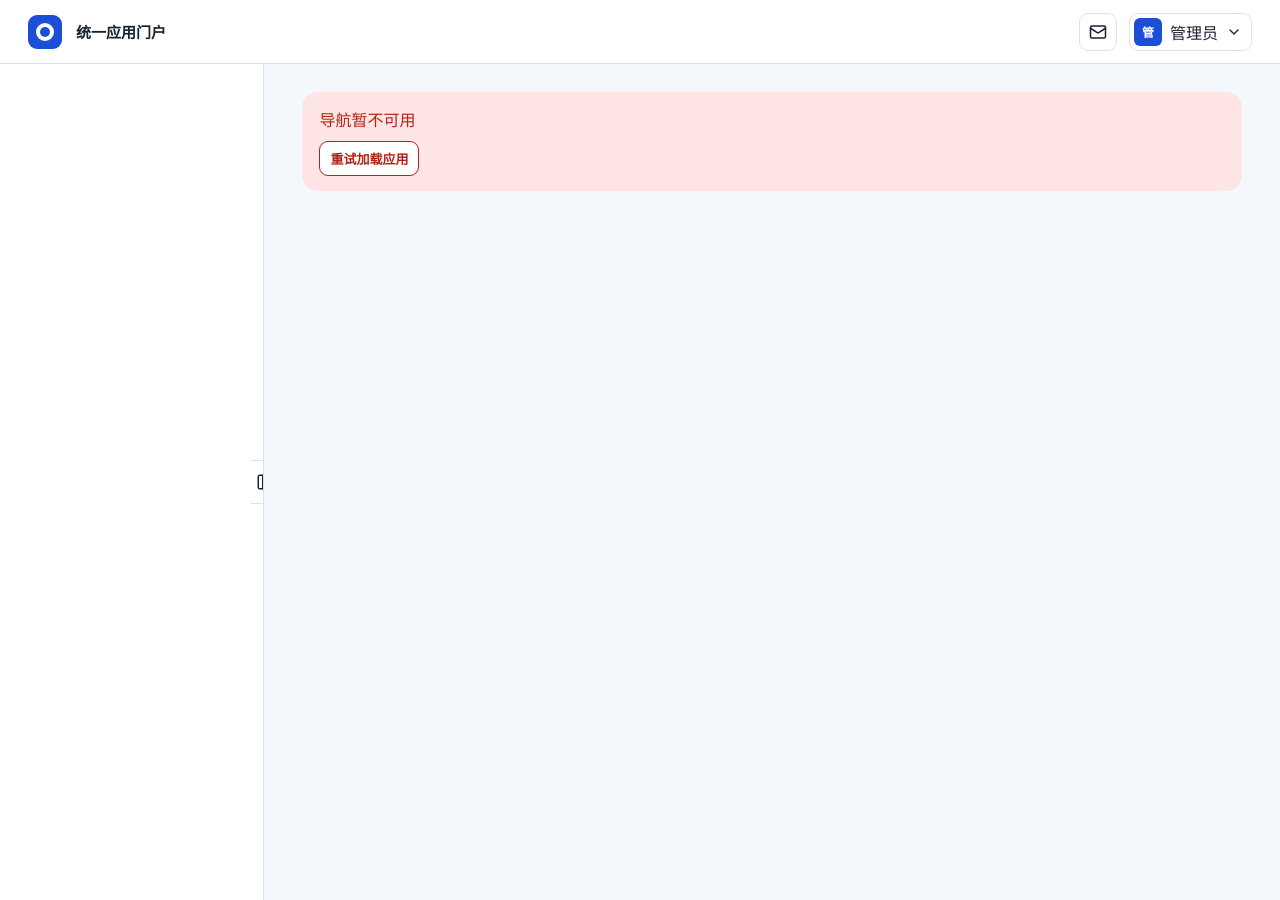
Test: Portal App › 导航加载失败时应保留已认证用户壳并允许只重试导航
Click the button "重试加载应用" at (369, 158), box x1=319 y1=141 x2=419 y2=176
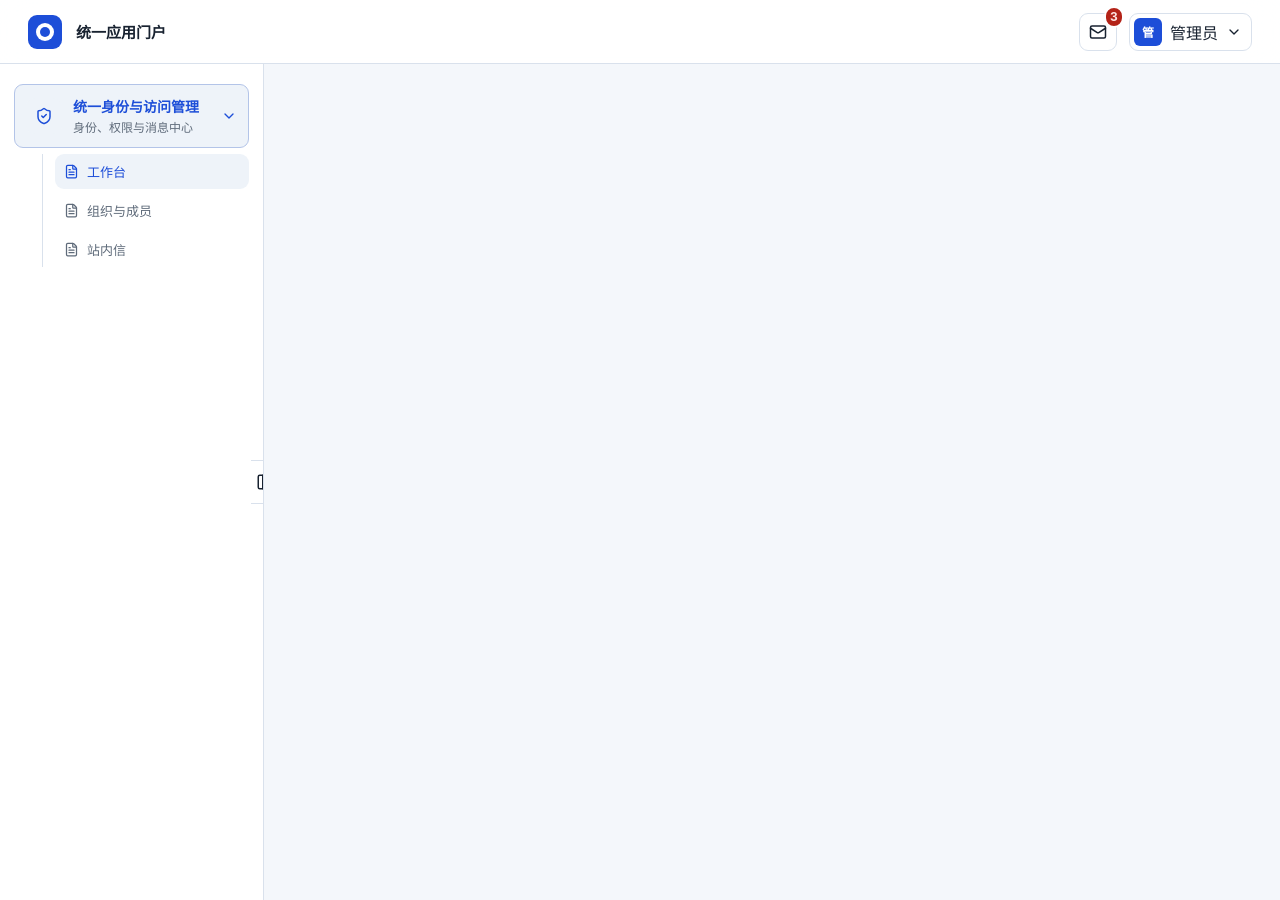
Expected: the text "组织与成员" is shown, x1=87 y1=201 x2=152 y2=220
